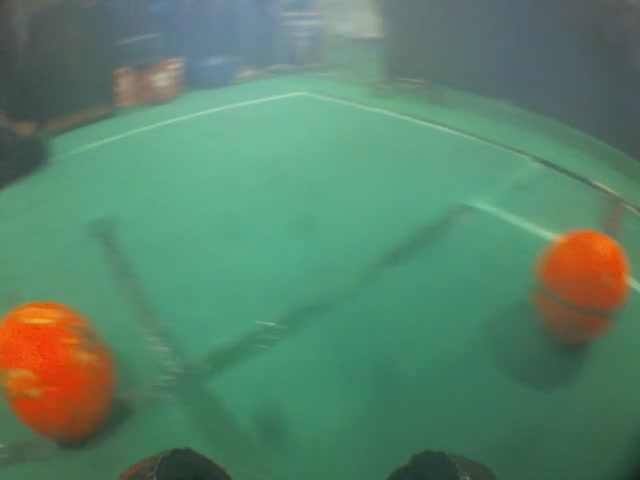ball: (1, 299, 124, 450), (529, 229, 627, 349)
